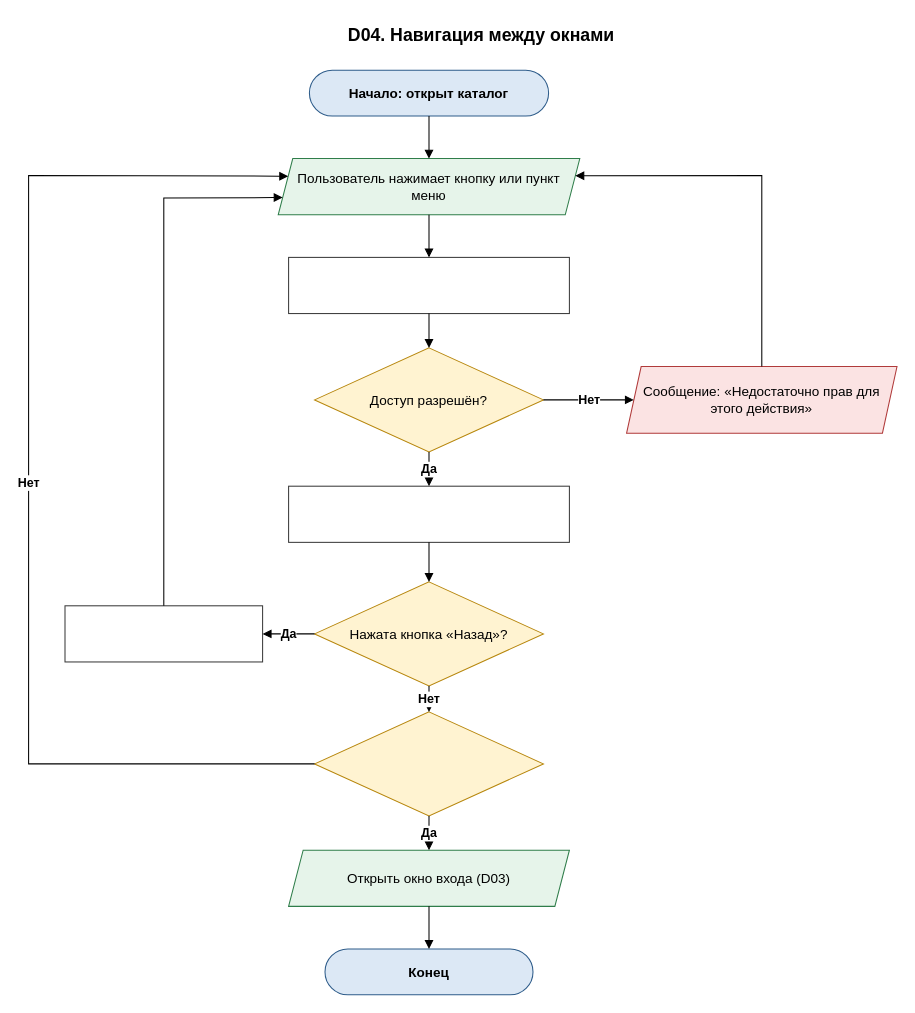
The diagram is 915 pixels wide and 1013 high, and some of its shapes have lost their labels. Here are the shapes that lost their labels. From the top down, the centre of each, then its label:
point 428,285: Проверить права текущей роли
point 428,513: Открыть окно с заголовком раздела
point 163,633: Вернуться в предыдущее окно
point 428,763: Нажата кнопка «Выйти»?
